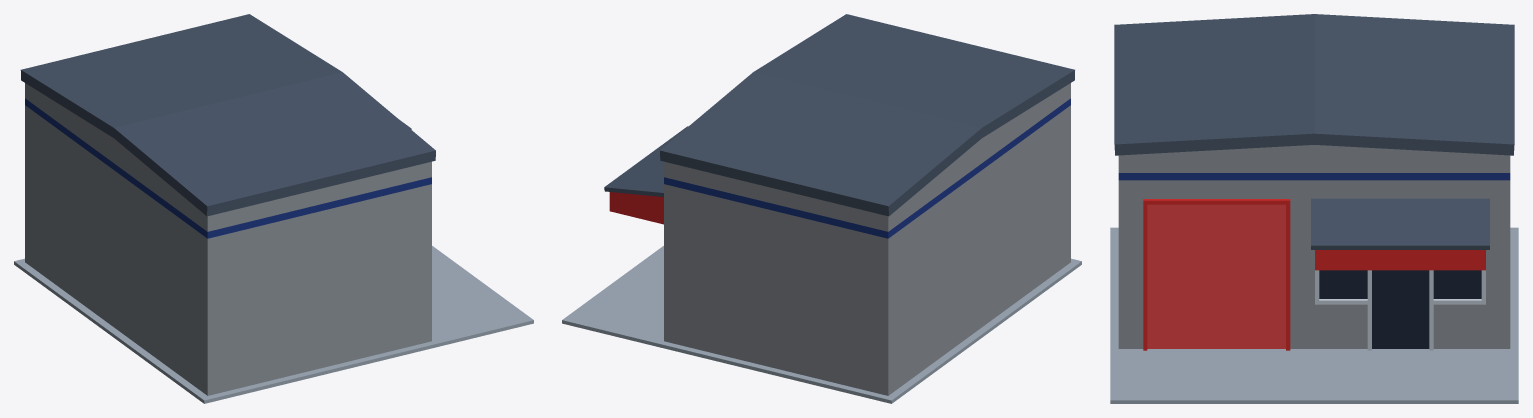
File: firefighter.glb
The picture shows the model from 3 angles, left to right: view 1: azimuth 30°, elevation 25°; view 2: azimuth 150°, elevation 25°; view 3: azimuth 270°, elevation 25°; orthographic projection. The views are drawn at different scales.
Parts seen in each view (by area): view 1: firefighter; view 2: firefighter; view 3: firefighter.
Boxes of the visible parts, x1,y1,x2,y2 form: firefighter: (14, 14, 533, 403); firefighter: (562, 14, 1081, 403); firefighter: (1110, 14, 1518, 403).
Size of the model in its own units: 10 by 5.95 by 10.
